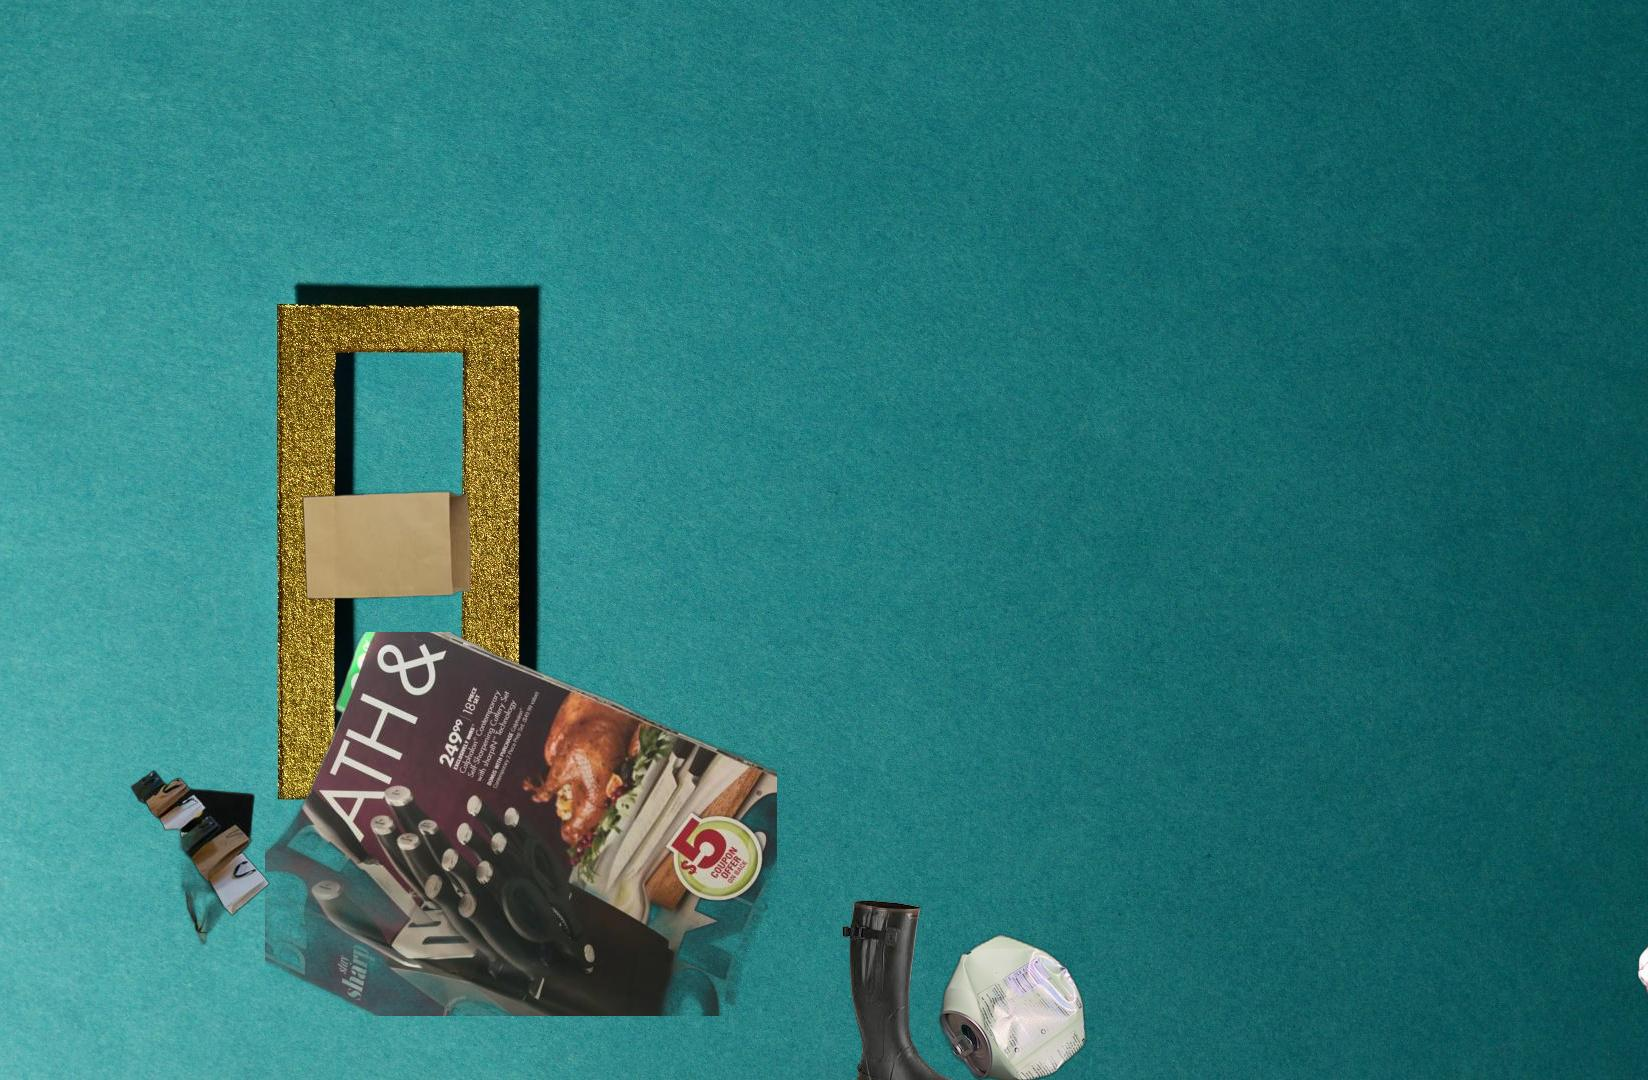metal-cans: (933, 928, 1090, 1080)
paper: (265, 632, 778, 1016)
paper-bag: (298, 489, 528, 790), (33, 769, 293, 959)
plastic-bag: (1584, 797, 1648, 1020)
shoes: (840, 898, 979, 1080)
trashbox-cardboard: (645, 873, 1648, 1080)
